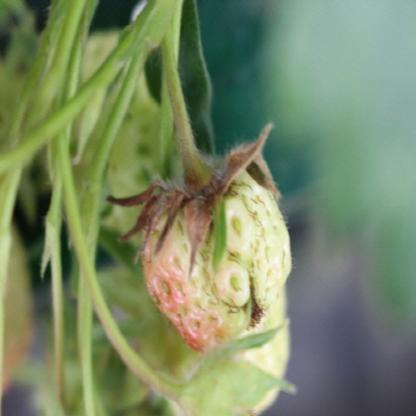Strawberry_Gray_Mold: (106, 121, 284, 282)
